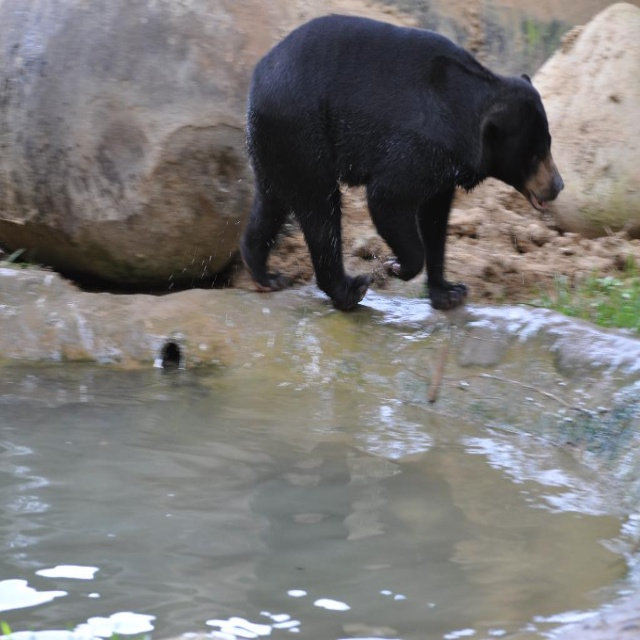Bear: (239, 14, 564, 315)
